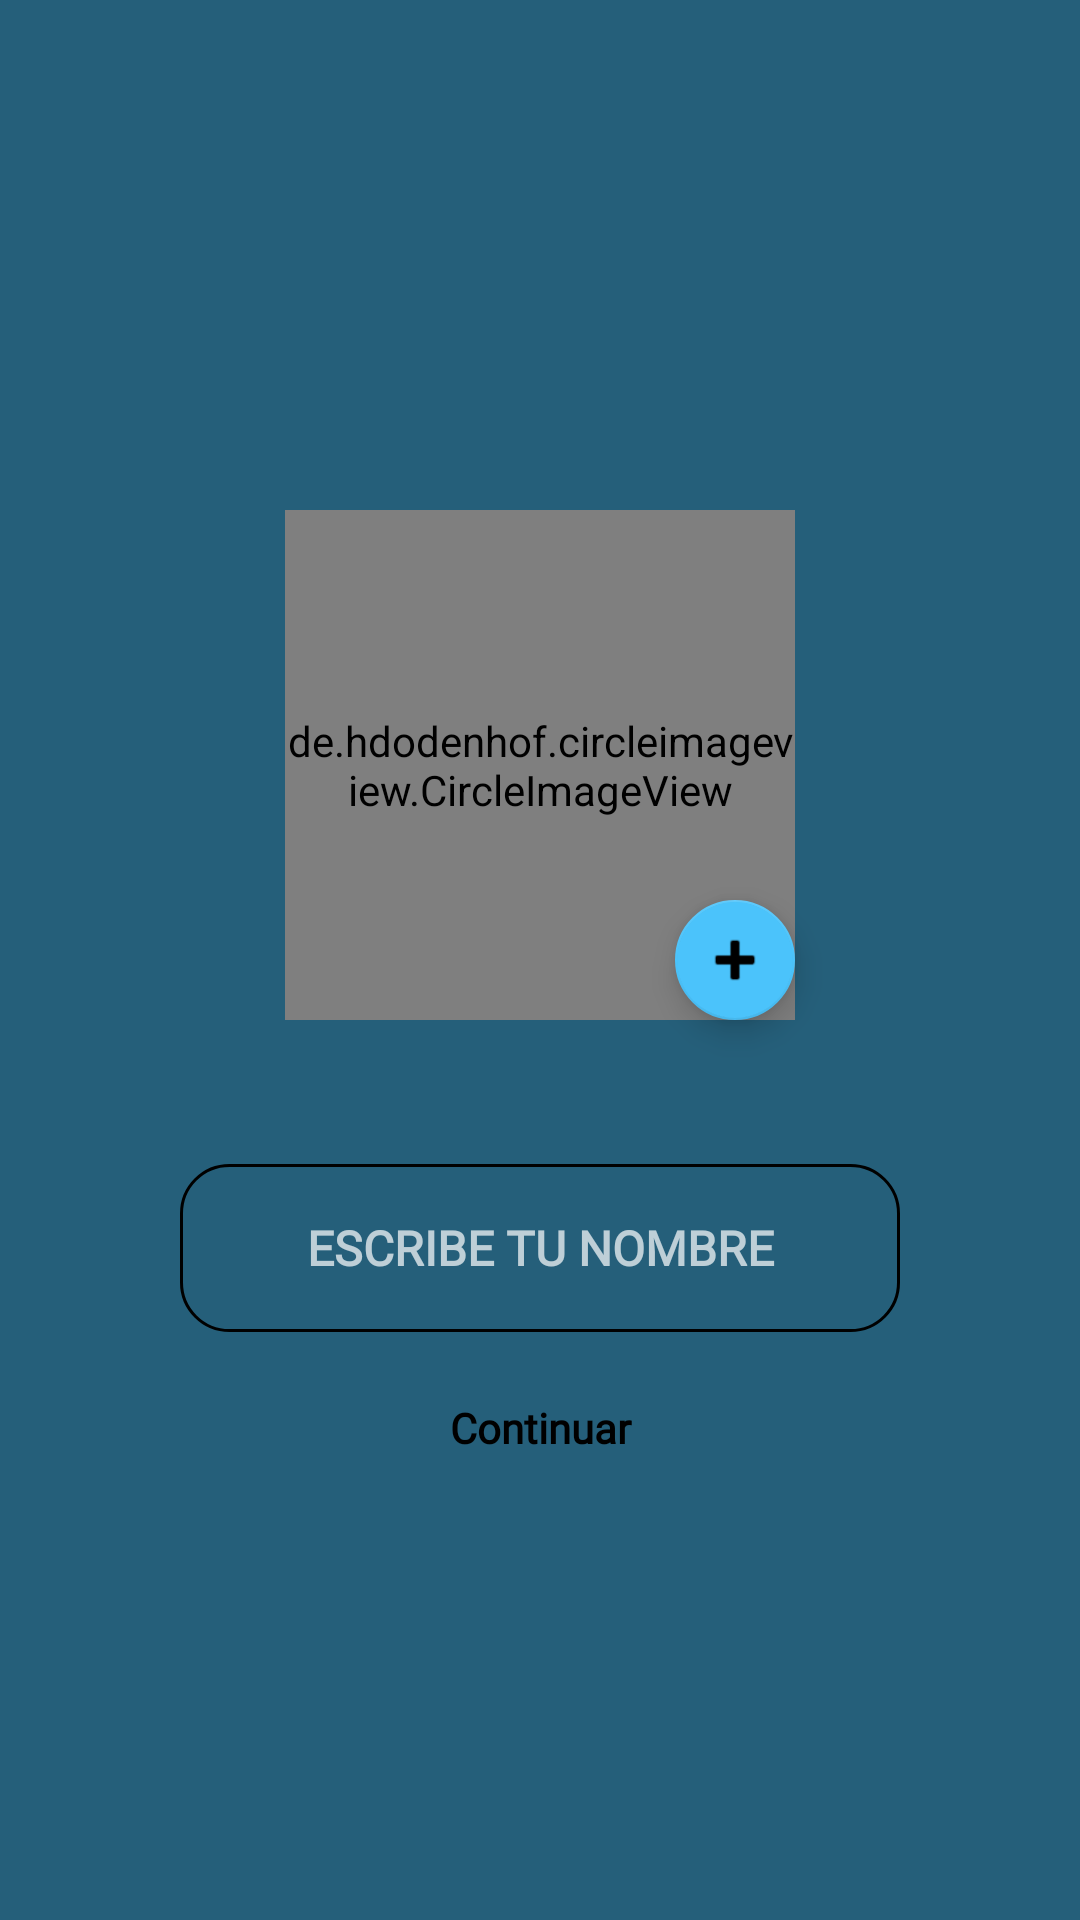

Screen size 1080w x 1920h. Icon name, then its center in pixels as (x,y):
add: (735,960)
